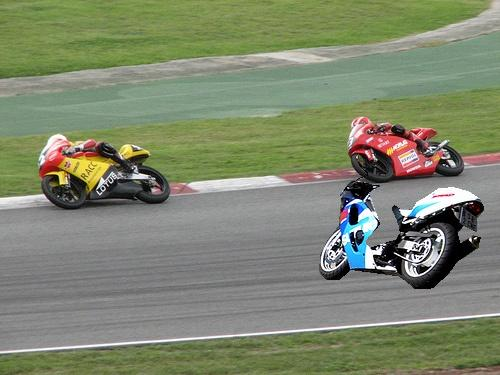tampered: (320, 155, 484, 289)
